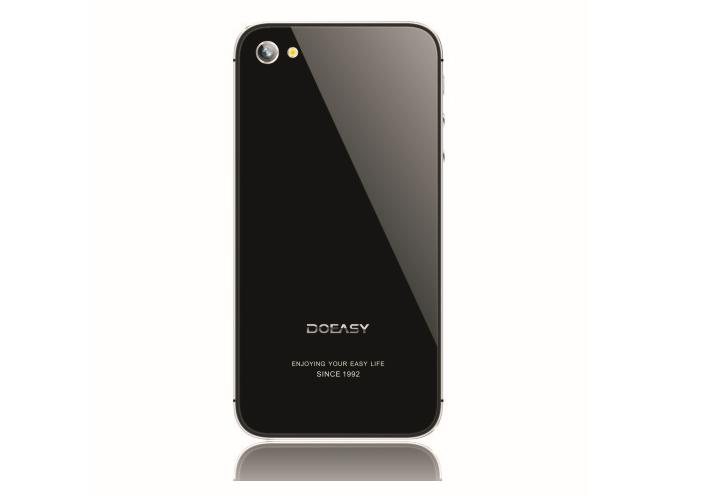phone: (236, 25, 441, 437)
